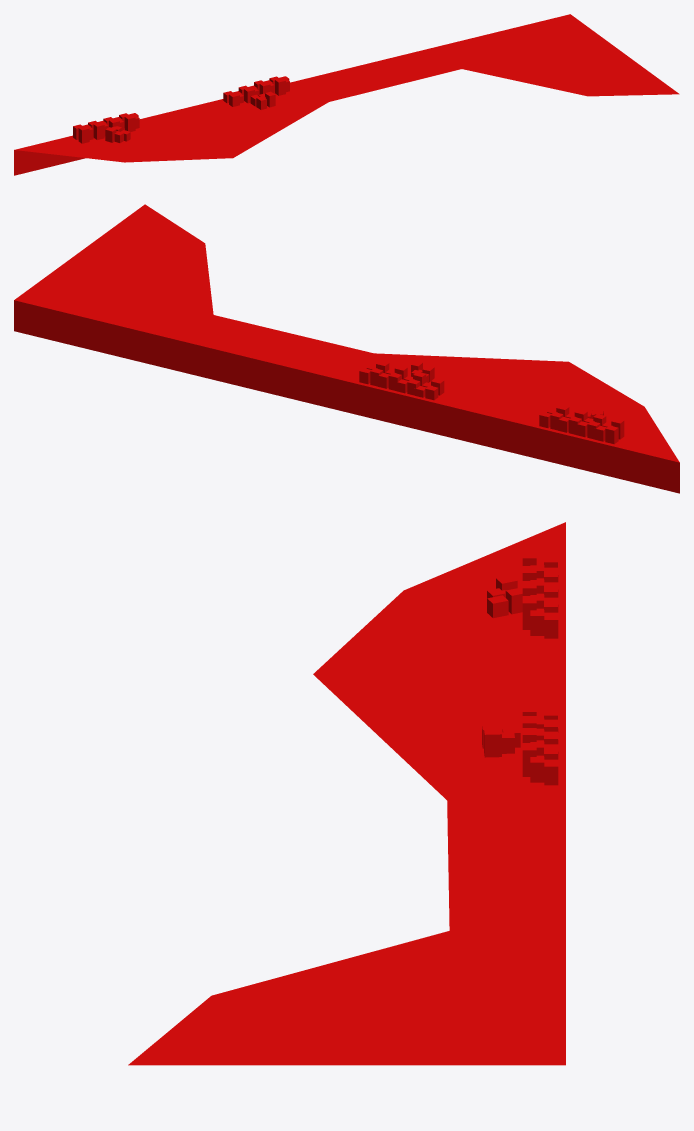
Rendered from red.fbx.
3 views of the same model, one above another, from view 1: azimuth 30°, elevation 25°; view 2: azimuth 150°, elevation 25°; view 3: azimuth 270°, elevation 25° (orthographic). The views are drawn at different scales.
Visible parts, largest first — view 1: polySurface7; view 2: polySurface7; view 3: polySurface7.
Part boxes in pixels (left/top/right/bottom): polySurface7: left=14, top=14, right=679, bottom=175; polySurface7: left=14, top=204, right=679, bottom=493; polySurface7: left=128, top=522, right=565, bottom=1065.
Bounding box in the file's own units: 450 × 30.36 × 153.
